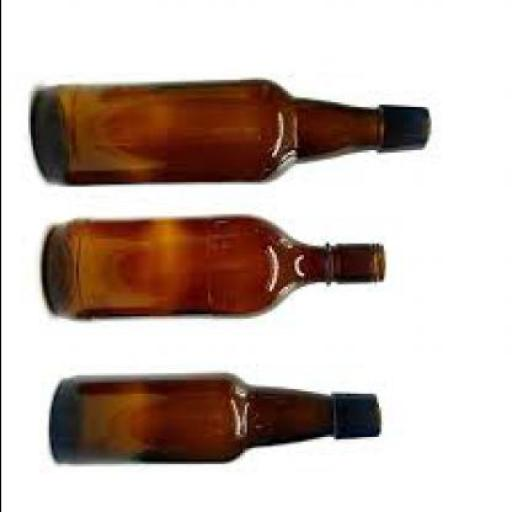glass: (32, 79, 382, 184), (43, 216, 387, 318), (50, 371, 333, 462)
metal: (384, 104, 432, 148), (332, 392, 380, 434)
